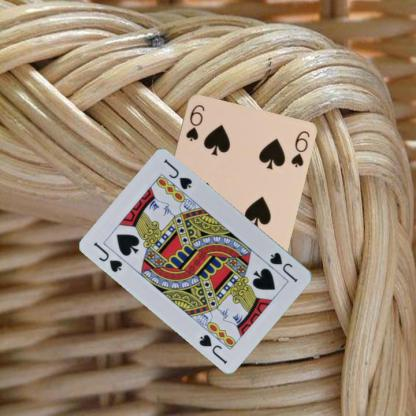6s: (183, 102, 206, 142)
Js: (91, 239, 124, 274), (267, 250, 300, 284)
